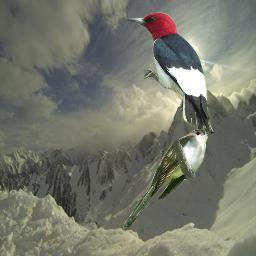Cuckoo: (121, 128, 215, 233)
Woodpecker: (124, 12, 217, 133)
